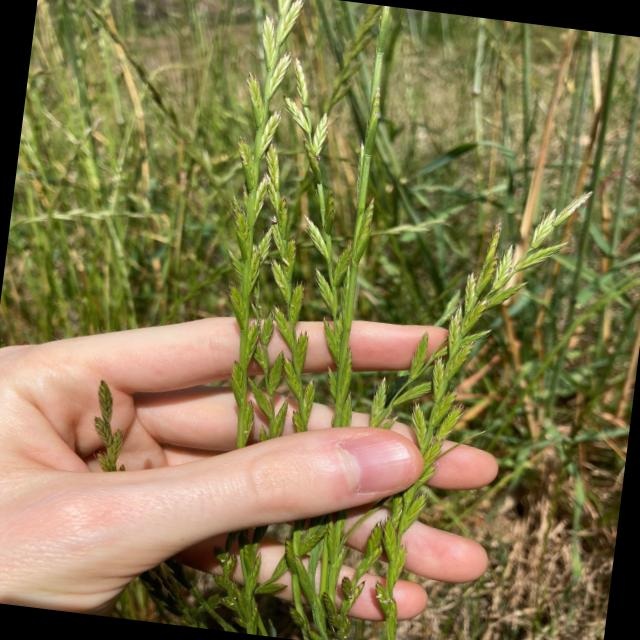Lolium: (165, 0, 618, 640)
